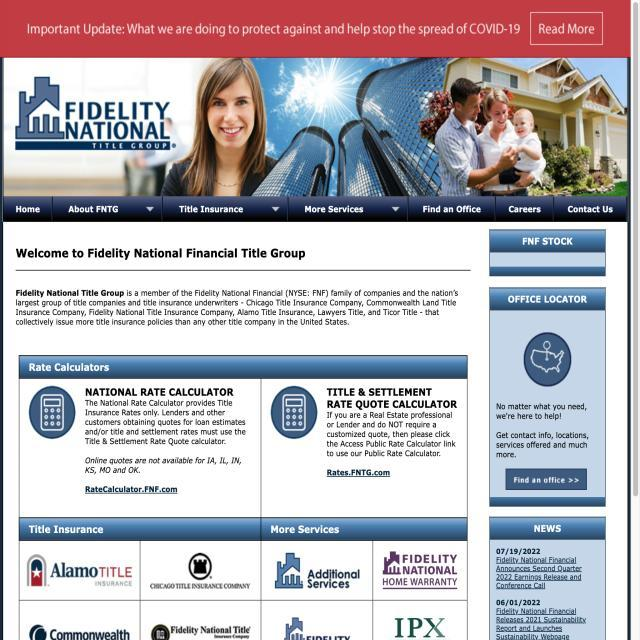button: (529, 11, 606, 47), (504, 467, 588, 492)
link: (495, 554, 595, 592), (498, 609, 596, 640), (83, 483, 184, 497), (324, 466, 398, 484)
navigation bar: (5, 198, 624, 224)
text: (14, 284, 460, 334), (80, 384, 252, 449), (322, 386, 461, 461)
